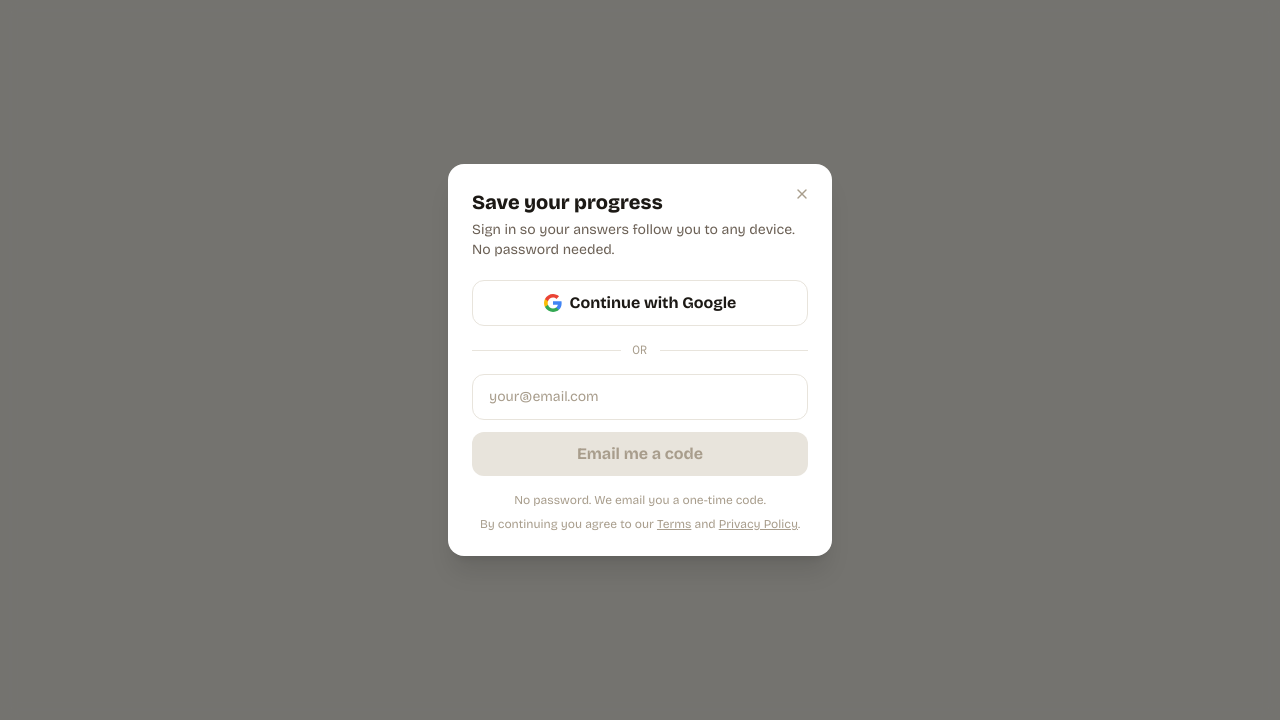
Test: AuthModal sign-in methods › keeps the code step usable after a rejected code
In the field with placeholder "your@email.com": (640, 397) [472,374,808,420], type "rider@example.com"
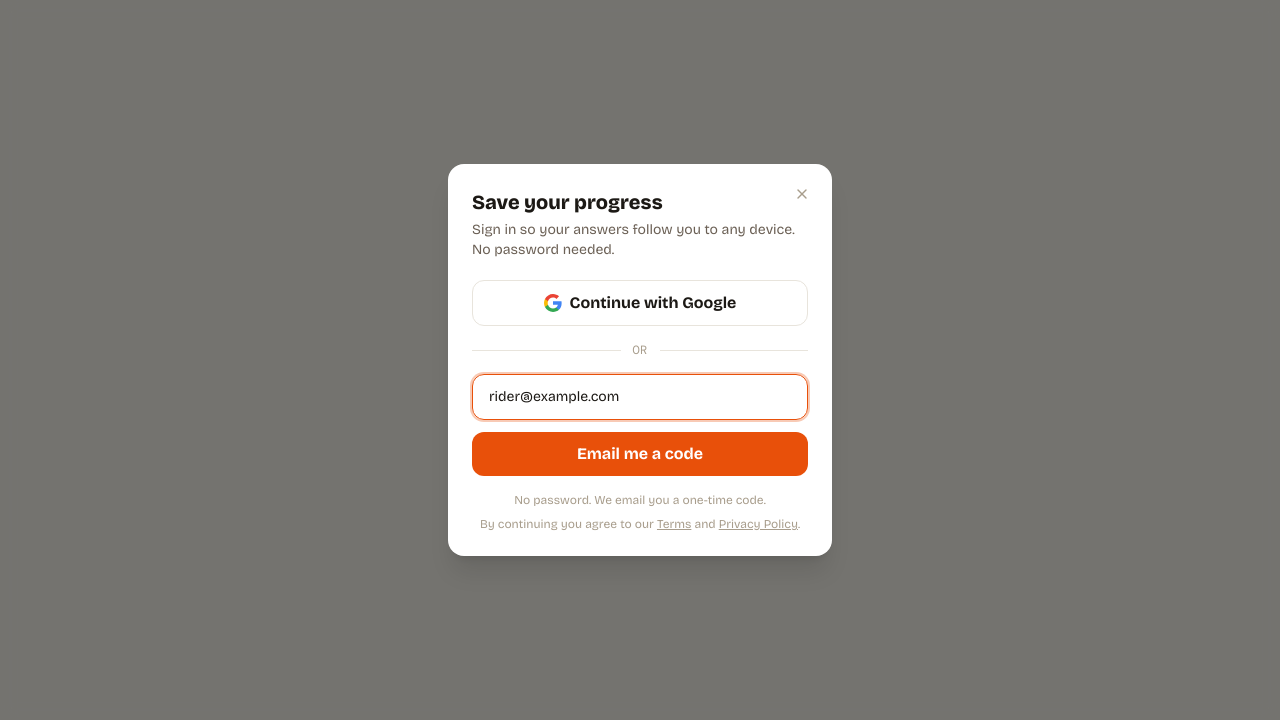
Click the button "Email me a code": (640, 454) [472,432,808,476]
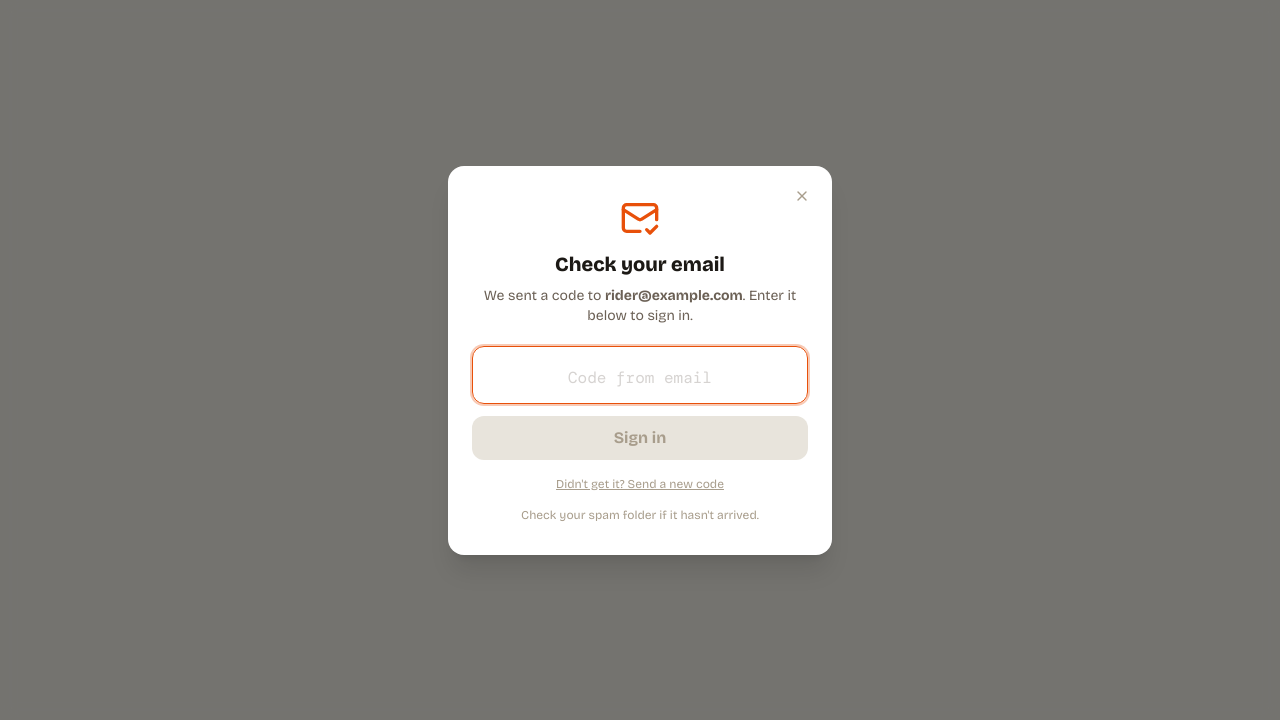
In the field named "sign-in code": (640, 374) [472,346,808,404], type "000000"
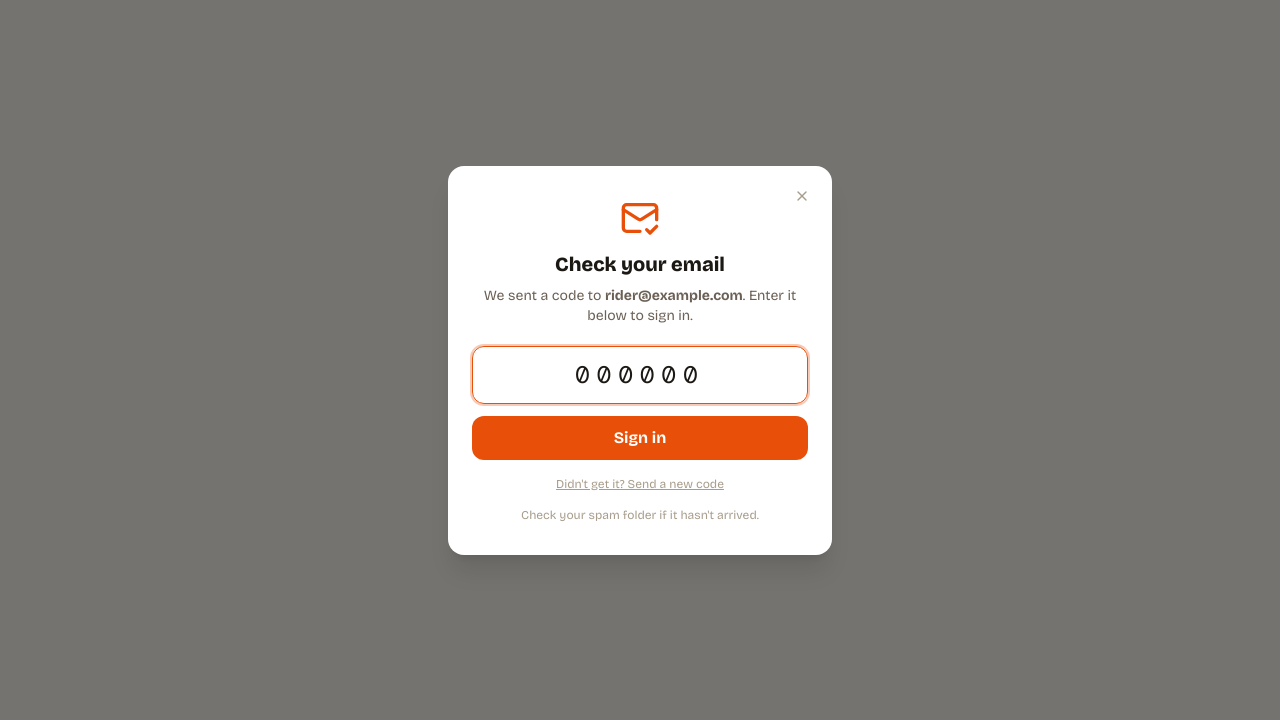
Click the button "Sign in": (640, 438) [472,416,808,460]
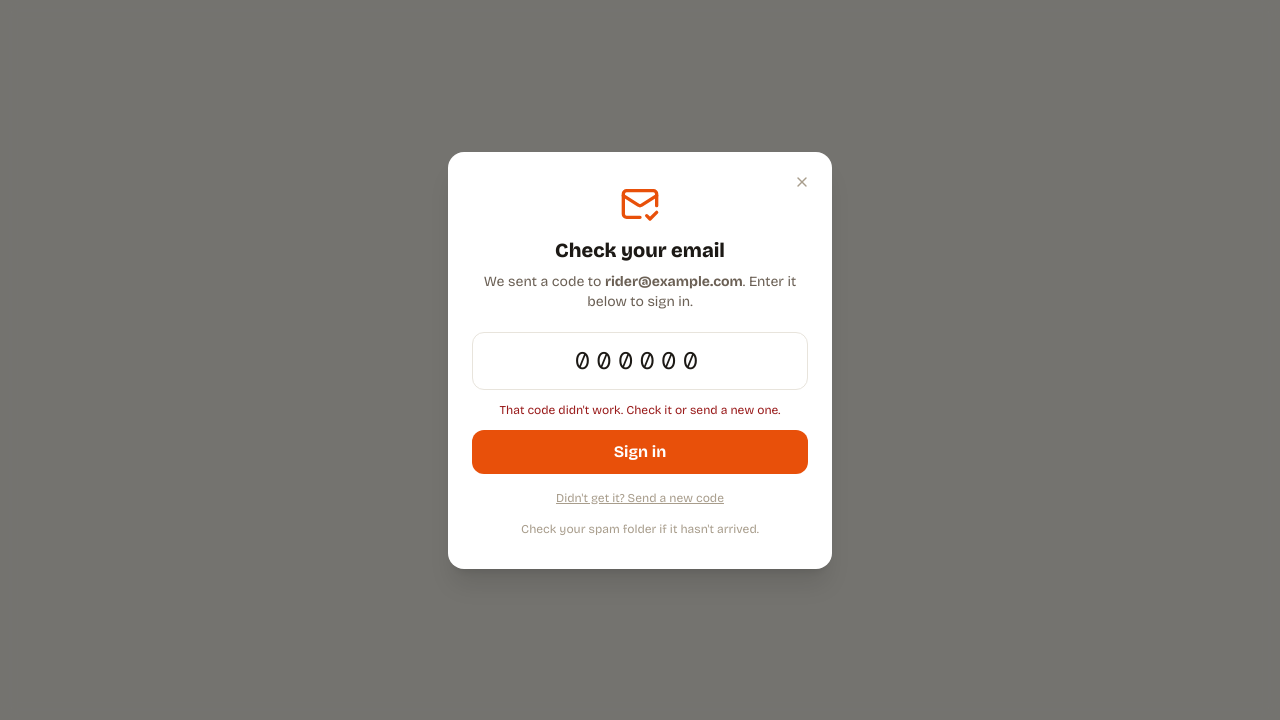
Check: the field named "sign-in code" is enabled, box [472,332,808,390]
Check: the text "That code didn't work. Check it or send a new one." is shown, box [500,402,780,416]
